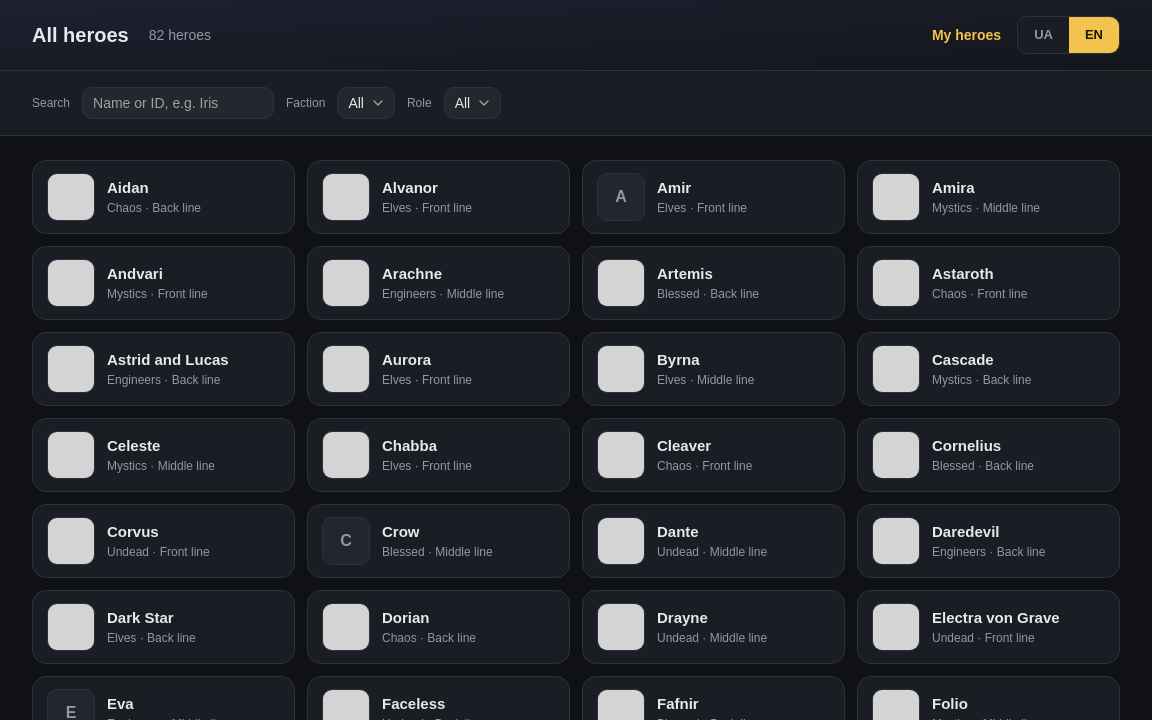
Test: Back returns to the full list when the hero was opened from it
Click the link "Aidan": (128, 188) [107,179,149,196]
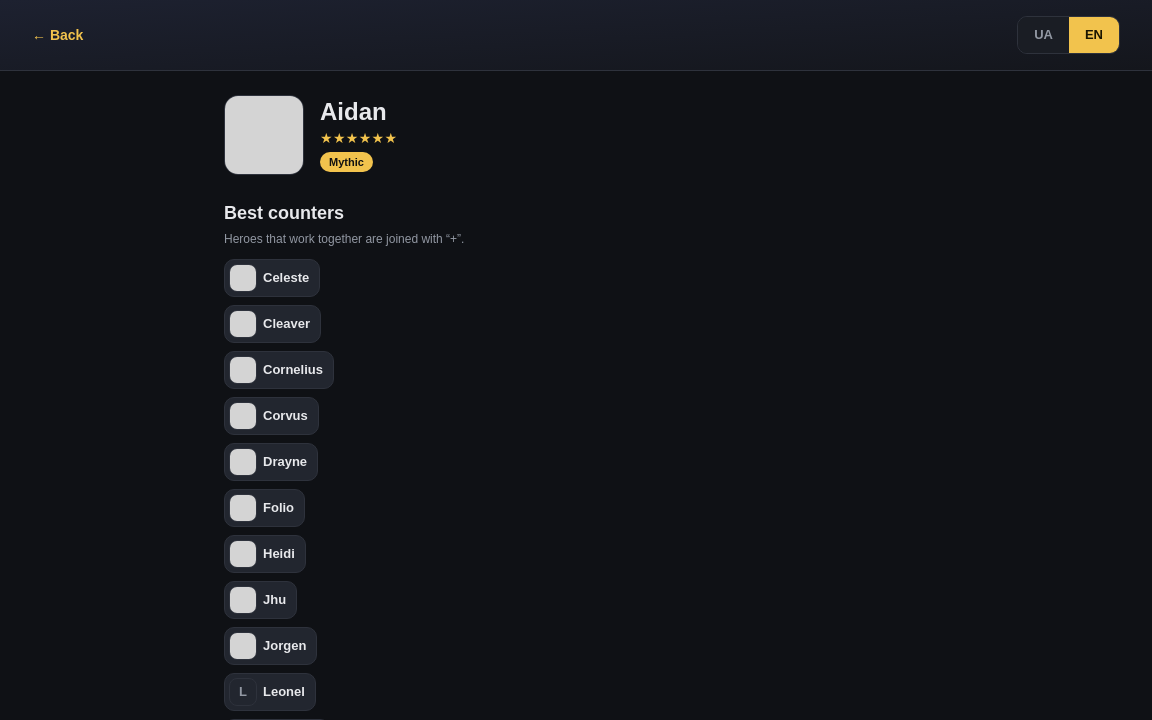
Click the link "← Back": (58, 35) [32,25,83,45]
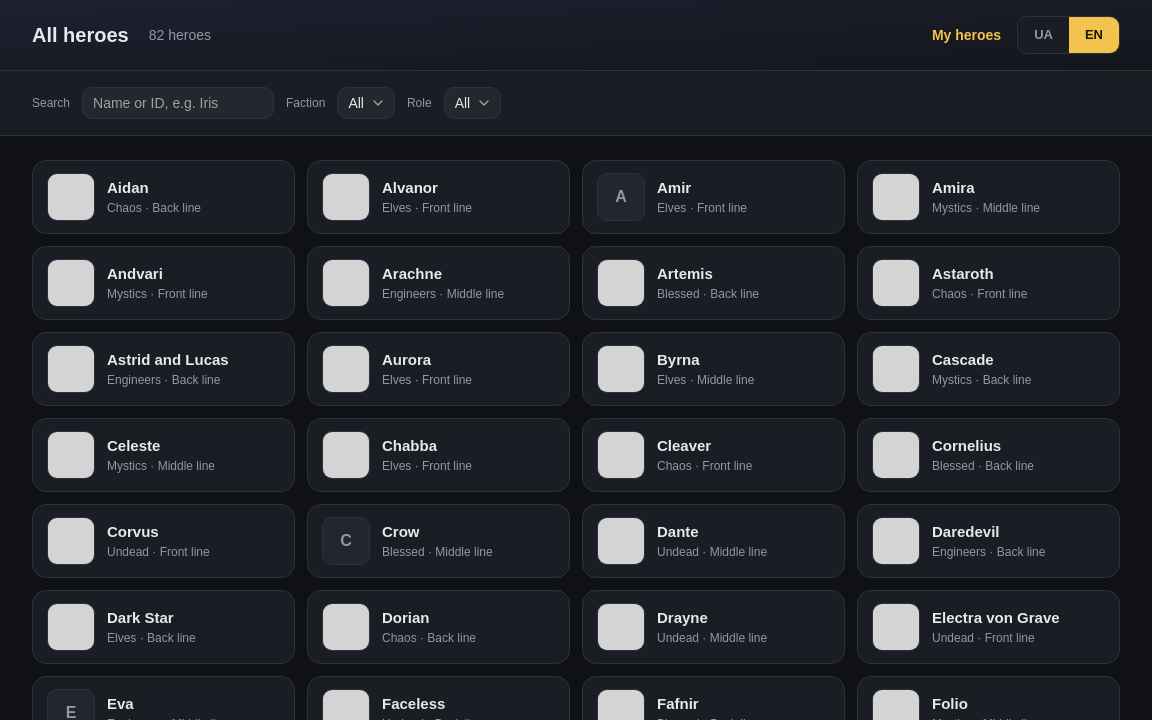
Check: the heading reads "All heroes", box [32,24,129,46]
